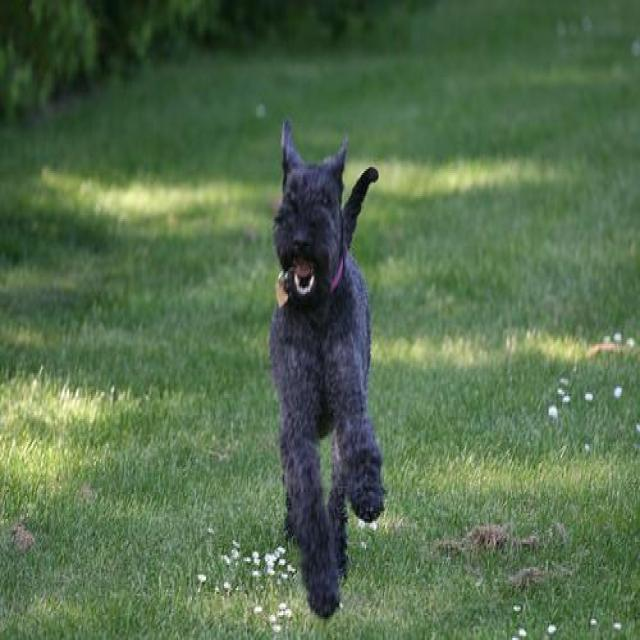happy: (230, 81, 396, 623)
